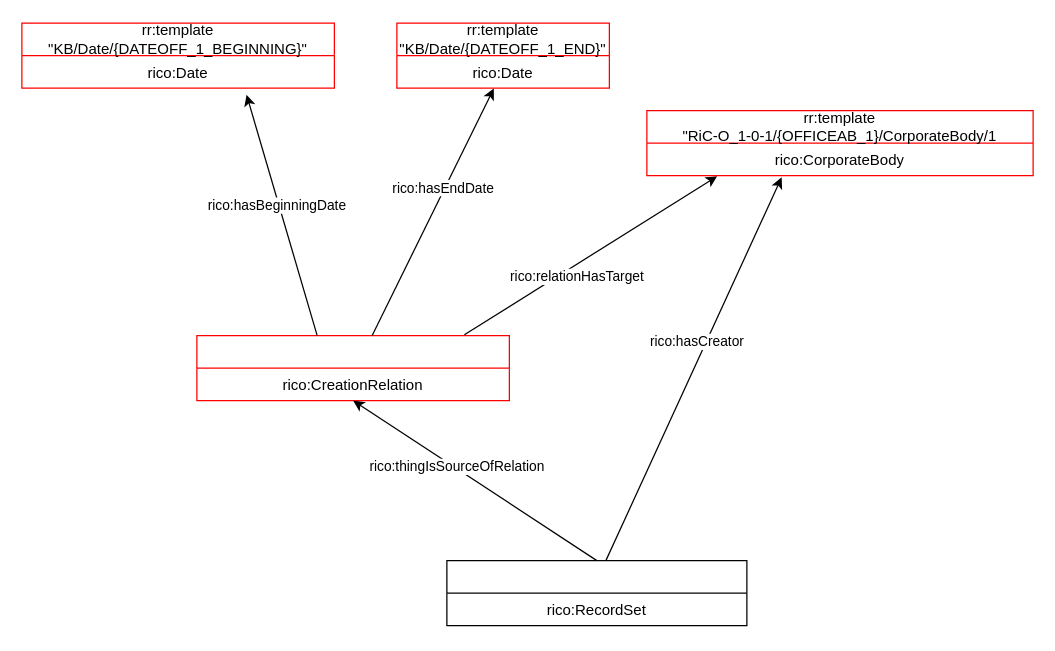
Some shapes in this 1055 by 651 pixel diagram are drawn without their labels. The box of each missing label's shape, as (x1, y1, x2, y2) in pixels:
rr:template " RiC-O_1-0-1/{ REFD}/ CreationRelation /1: (196, 334, 509, 401)
rr:template " RiC-O_1-0-1/{ REFD}/RecordSet/1: (446, 559, 747, 626)
